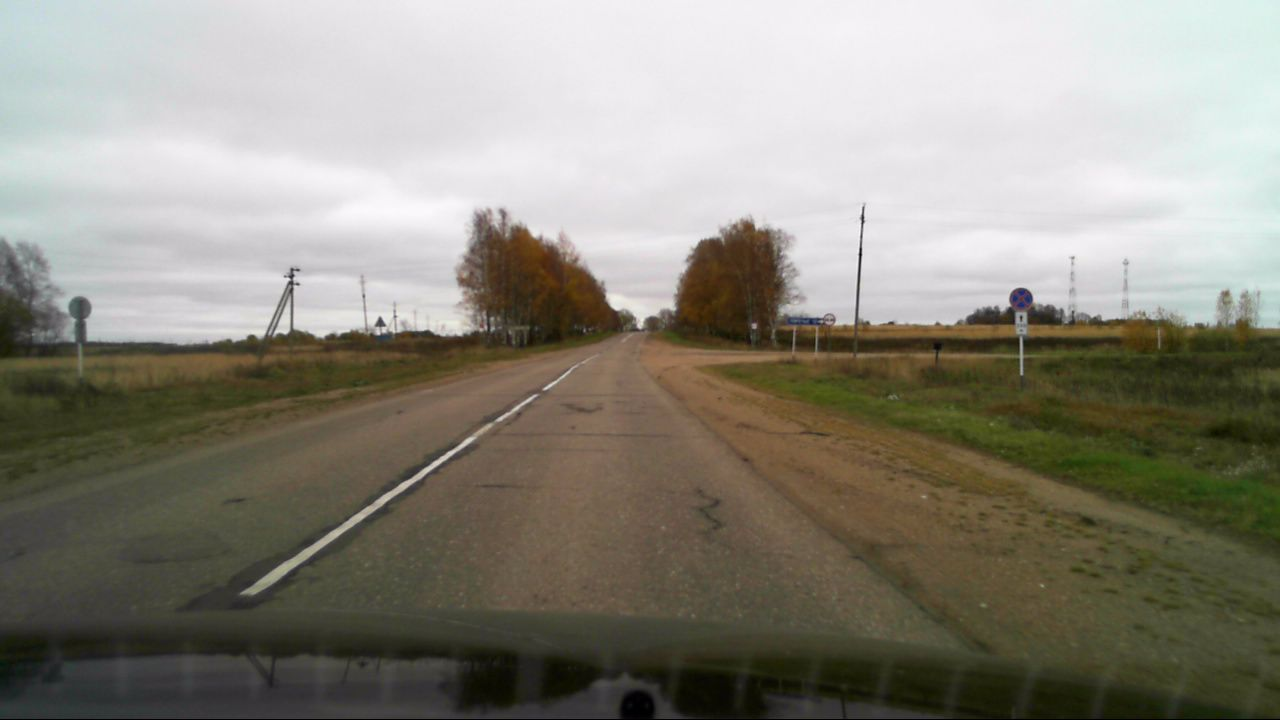No Parking: (1008, 285, 1033, 311)
